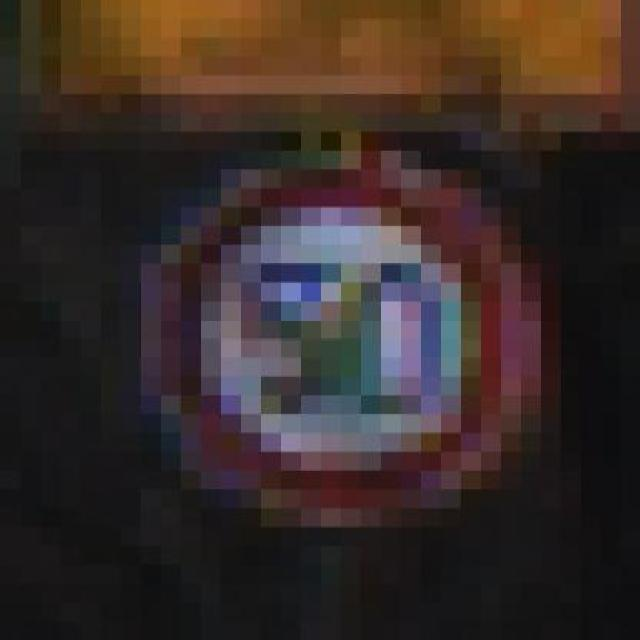Speed limit 50: (130, 130, 563, 529)
